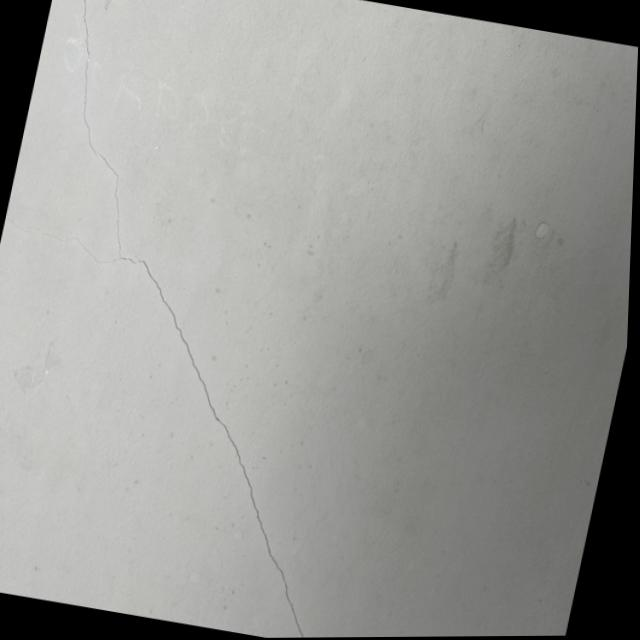Crack: (67, 253, 400, 639), (0, 0, 204, 275)
